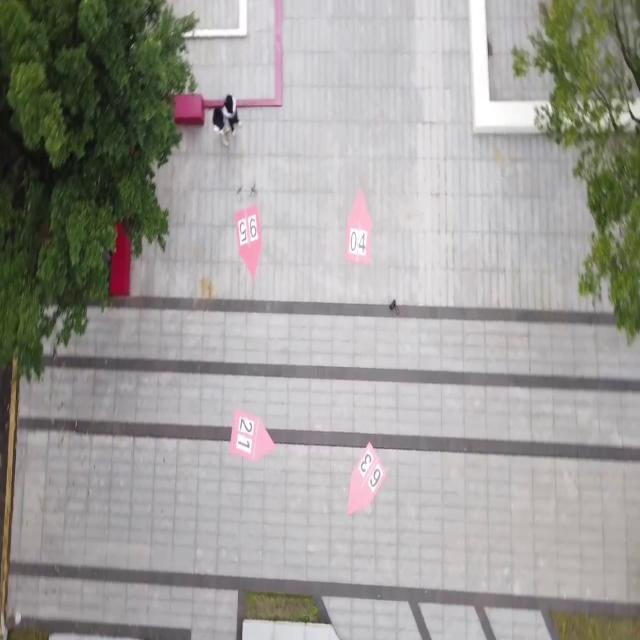-sign-: (218, 385, 282, 470), (226, 201, 276, 282), (341, 440, 390, 520), (340, 178, 380, 273)
